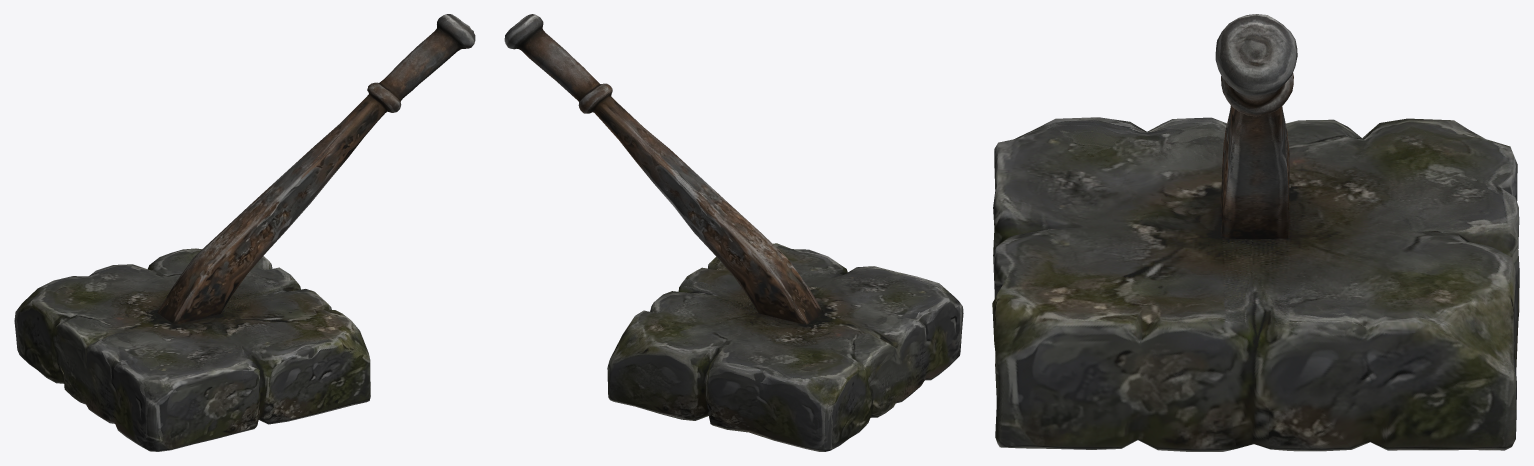
Rendered from lever.glb.
The picture shows the model from 3 angles, left to right: view 1: azimuth 30°, elevation 25°; view 2: azimuth 150°, elevation 25°; view 3: azimuth 270°, elevation 25°; orthographic projection. The views are drawn at different scales.
Size of the model in its own units: 1 by 0.7398 by 0.6185.
1 material, 1 textured.
